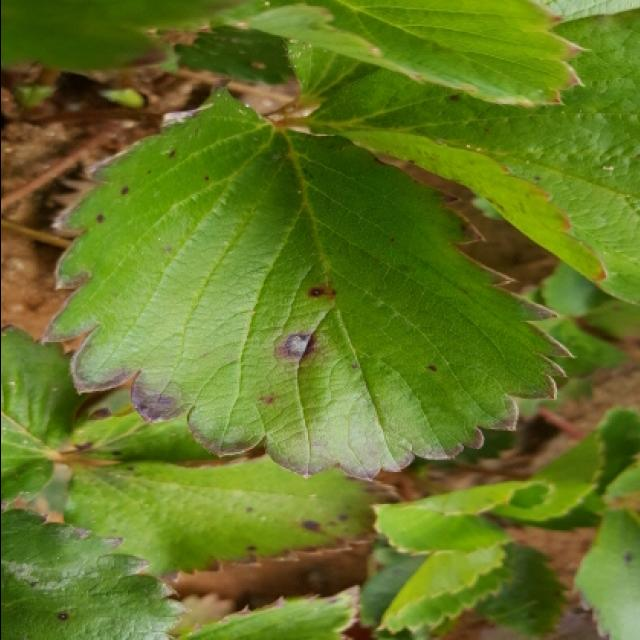Leaf Spot: (41, 80, 576, 482), (293, 6, 640, 305), (61, 455, 410, 583), (2, 508, 189, 640), (58, 376, 226, 468), (177, 583, 360, 640), (570, 506, 640, 640)
